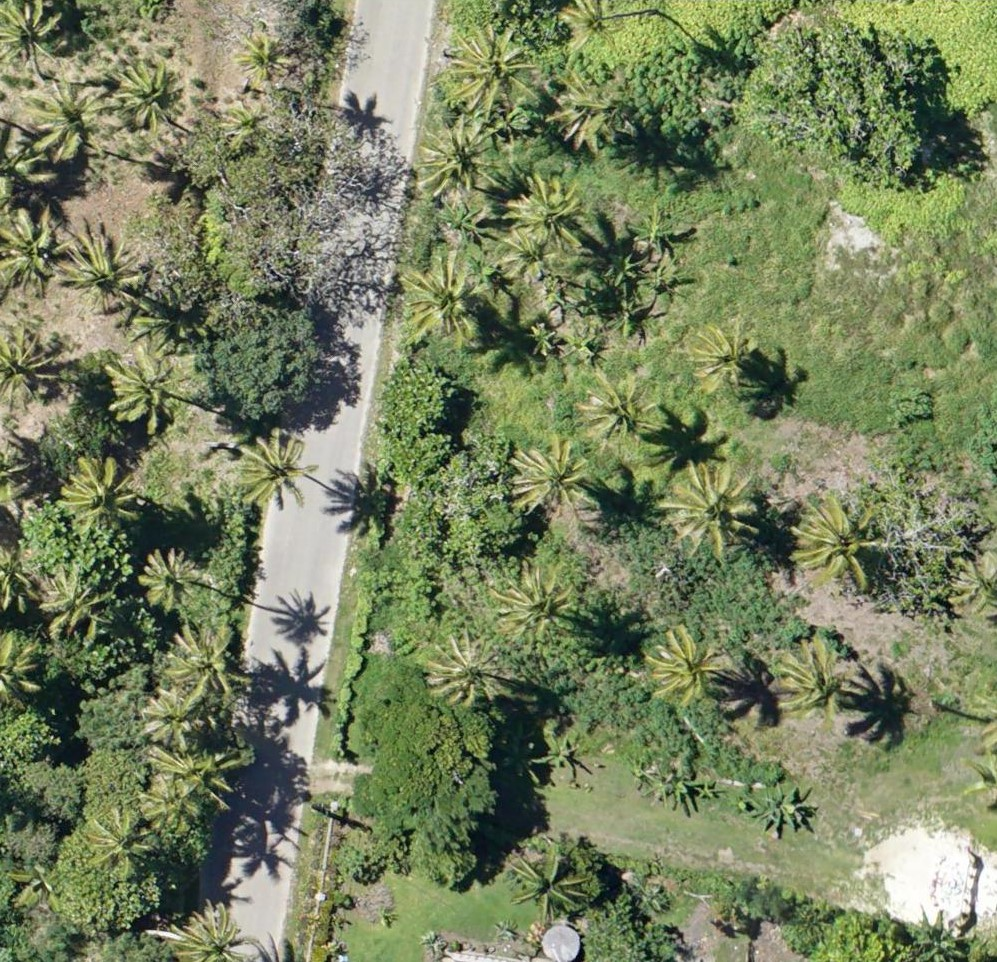Palm: (667, 464, 760, 560), (445, 24, 539, 117), (405, 249, 491, 349), (110, 344, 193, 429), (235, 429, 317, 514), (491, 563, 576, 645), (776, 638, 853, 728), (798, 499, 872, 592), (425, 624, 510, 704), (59, 452, 140, 535), (418, 118, 498, 200), (63, 227, 146, 306), (28, 80, 109, 158), (505, 433, 583, 511), (508, 181, 589, 254), (170, 625, 246, 702), (1, 206, 65, 296), (583, 369, 658, 445), (689, 316, 764, 391), (548, 71, 620, 147), (2, 329, 68, 410), (652, 627, 720, 702), (112, 60, 182, 132), (83, 811, 154, 879), (42, 560, 106, 635), (174, 908, 253, 962), (1, 1, 66, 66), (556, 3, 626, 57), (144, 771, 199, 833), (140, 549, 198, 607), (140, 694, 198, 751), (240, 30, 299, 85), (501, 232, 553, 285), (222, 99, 268, 148)
